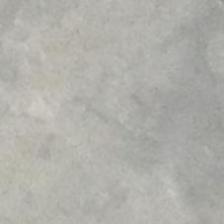Non_Crack: (8, 1, 223, 224)
